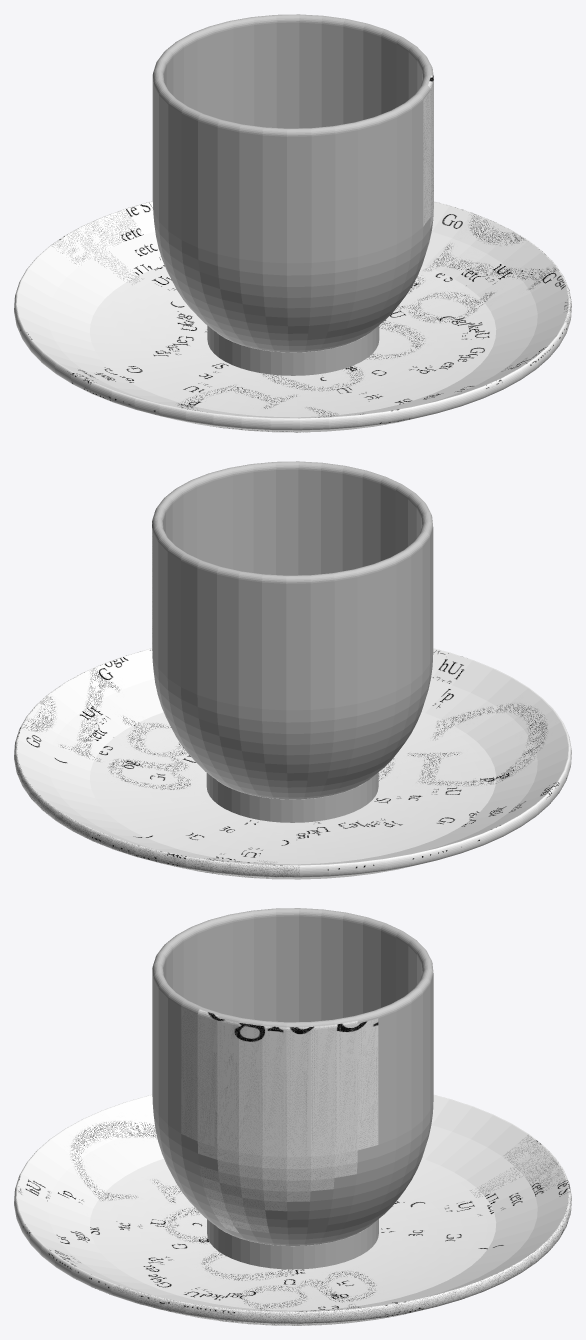
3 views of the same model, one above another, from view 1: azimuth 30°, elevation 25°; view 2: azimuth 150°, elevation 25°; view 3: azimuth 270°, elevation 25° (orthographic).
Visible parts, largest first — view 1: mesh2_mesh2-geometry, mesh1_mesh1-geometry; view 2: mesh2_mesh2-geometry, mesh1_mesh1-geometry; view 3: mesh2_mesh2-geometry, mesh1_mesh1-geometry.
Part boxes in pixels (left/top/right/bottom): mesh2_mesh2-geometry: left=152, top=14, right=433, bottom=375; mesh1_mesh1-geometry: left=14, top=201, right=571, bottom=432; mesh2_mesh2-geometry: left=152, top=461, right=433, bottom=822; mesh1_mesh1-geometry: left=14, top=648, right=571, bottom=879; mesh2_mesh2-geometry: left=152, top=908, right=433, bottom=1269; mesh1_mesh1-geometry: left=14, top=1094, right=571, bottom=1325.
Bounding box in the file's own units: 0.658 × 0.3661 × 0.658.
